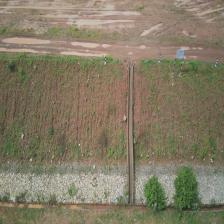rock toe: (0, 163, 127, 204), (134, 162, 183, 205), (184, 164, 224, 205)
slope drain: (127, 63, 135, 203)
